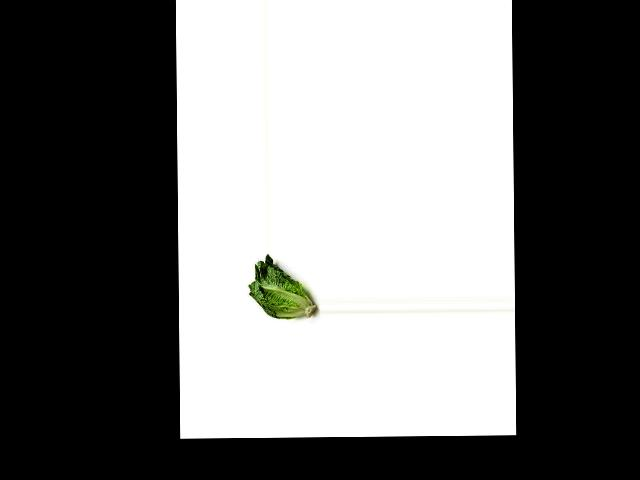lettuce: (245, 254, 314, 321)
